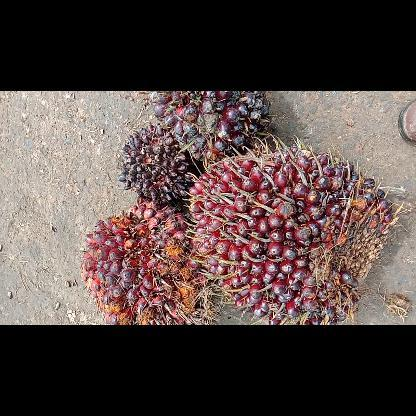Kurang masak: (186, 144, 396, 324), (146, 91, 272, 164)
TBS abnormal: (115, 126, 200, 210)
TBS masak: (79, 202, 219, 324)
